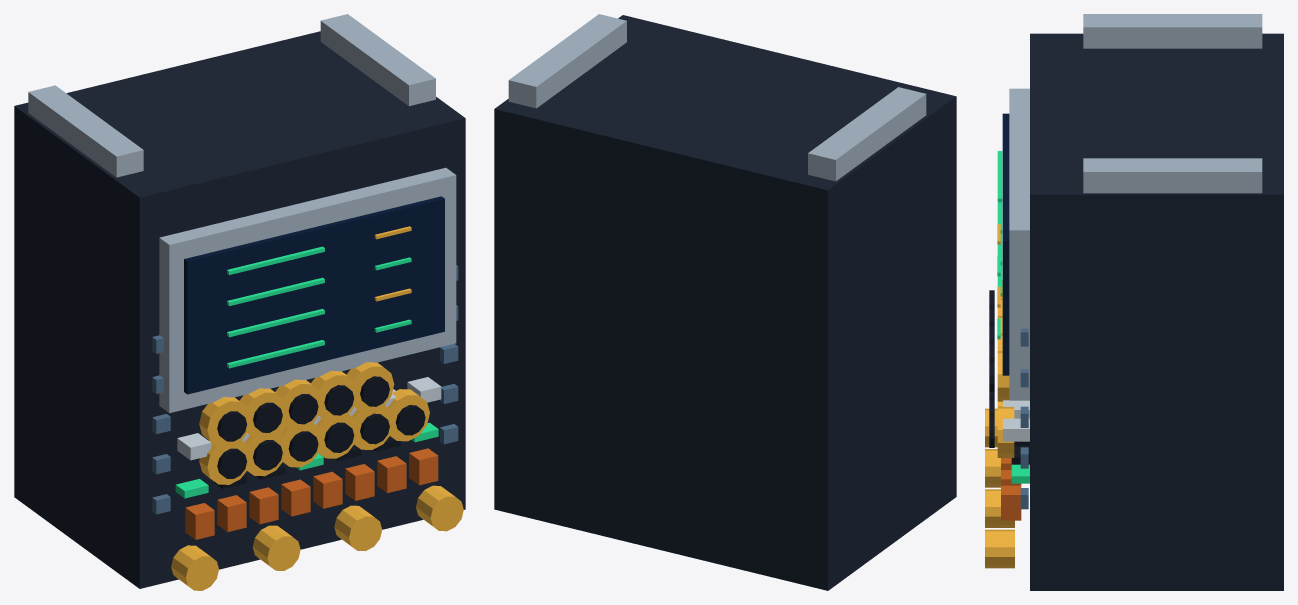
The model's file is 64_L85_DockingMechanismSequencingPLC.fbx.
The picture shows the model from 3 angles, left to right: view 1: azimuth 30°, elevation 25°; view 2: azimuth 150°, elevation 25°; view 3: azimuth 270°, elevation 25°; orthographic projection. The views are drawn at different scales.
Parts seen in each view (by area): view 1: L85_DockingMechanismSequencingPLC, L85_DockingMechanismSequencingPLC_Part_0021, L85_DockingMechanismSequencingPLC_Part_0009, L85_DockingMechanismSequencingPLC_Part_0027, L85_DockingMechanismSequencingPLC_Part_0023, L85_DockingMechanismSequencingPLC_Part_0019, L85_DockingMechanismSequencingPLC_Part_0029, L85_DockingMechanismSequencingPLC_Part_0025, L85_DockingMechanismSequencingPLC_Part_0017, L85_DockingMechanismSequencingPLC_Part_0011, L85_DockingMechanismSequencingPLC_Part_0015, L85_DockingMechanismSequencingPLC_Part_0013 (+11 smaller); view 2: L85_DockingMechanismSequencingPLC; view 3: L85_DockingMechanismSequencingPLC, L85_DockingMechanismSequencingPLC_Part_0019, L85_DockingMechanismSequencingPLC_Part_0029.
Part boxes in pixels (bbox=[...]): L85_DockingMechanismSequencingPLC: bbox=[14, 14, 465, 590]; L85_DockingMechanismSequencingPLC_Part_0021: bbox=[199, 397, 251, 447]; L85_DockingMechanismSequencingPLC_Part_0009: bbox=[199, 439, 251, 484]; L85_DockingMechanismSequencingPLC_Part_0027: bbox=[311, 371, 358, 421]; L85_DockingMechanismSequencingPLC_Part_0023: bbox=[239, 388, 287, 438]; L85_DockingMechanismSequencingPLC_Part_0019: bbox=[387, 389, 429, 441]; L85_DockingMechanismSequencingPLC_Part_0029: bbox=[346, 362, 394, 410]; L85_DockingMechanismSequencingPLC_Part_0025: bbox=[275, 379, 322, 428]; L85_DockingMechanismSequencingPLC_Part_0017: bbox=[351, 404, 394, 449]; L85_DockingMechanismSequencingPLC_Part_0011: bbox=[244, 430, 287, 476]; L85_DockingMechanismSequencingPLC_Part_0015: bbox=[316, 413, 356, 458]; L85_DockingMechanismSequencingPLC_Part_0013: bbox=[280, 423, 322, 467]; L85_DockingMechanismSequencingPLC: bbox=[494, 14, 956, 590]; L85_DockingMechanismSequencingPLC: bbox=[985, 14, 1283, 590]; L85_DockingMechanismSequencingPLC_Part_0019: bbox=[997, 406, 1014, 457]; L85_DockingMechanismSequencingPLC_Part_0029: bbox=[997, 351, 1009, 401].
Size of the model in its own units: 95.88 by 116 by 75.2.
